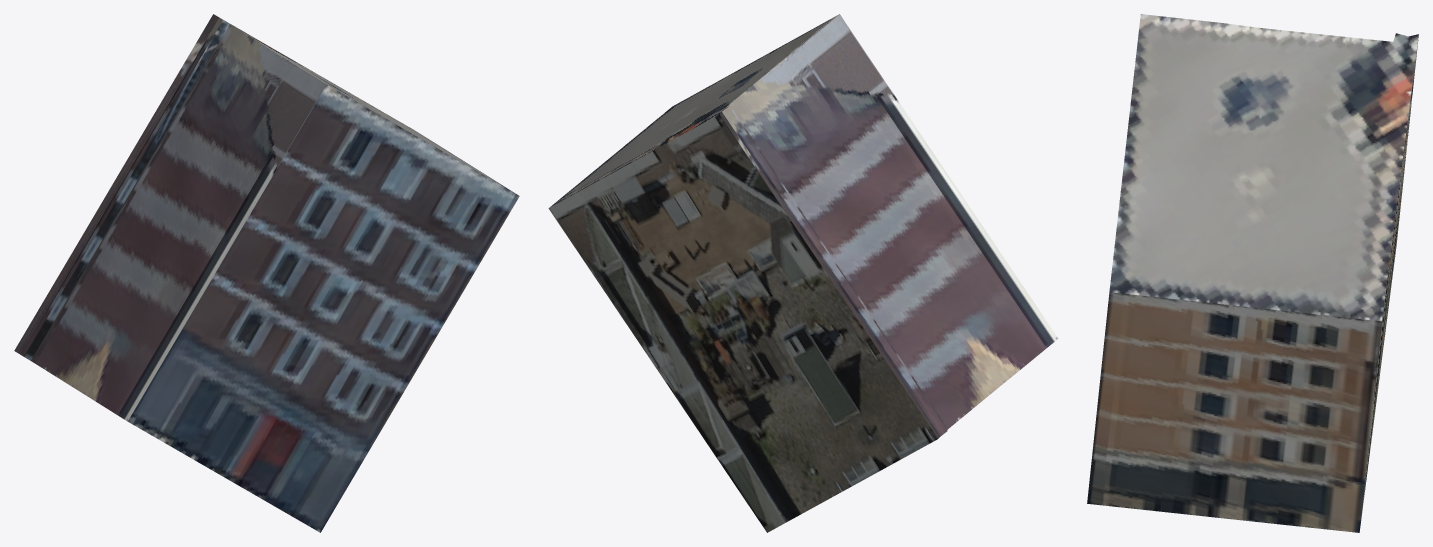
3 renders of one model, left to right at view 1: azimuth 30°, elevation 25°; view 2: azimuth 150°, elevation 25°; view 3: azimuth 270°, elevation 25°, orthographic. The views are drawn at different scales.
Parts seen in each view (by area): view 1: BAG_0599100000656929 (×4); view 2: BAG_0599100000656929 (×3); view 3: BAG_0599100000656929 (×2).
Boxes of the visible parts, <box> form: BAG_0599100000656929 (×4): <box>14,14,519,532</box>; BAG_0599100000656929 (×3): <box>548,14,1058,532</box>; BAG_0599100000656929 (×2): <box>1087,14,1418,532</box>.
Size of the model in its own units: 19.37 by 20.72 by 11.75.
Materials: 4 (4 with a texture image).
